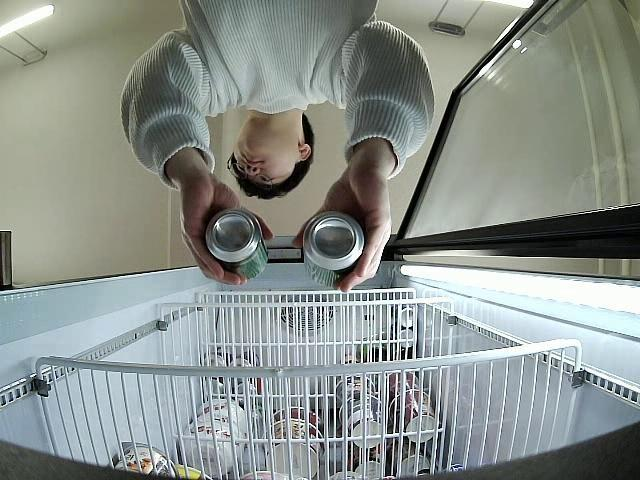12_chilsungCider: (204, 208, 268, 281), (303, 212, 366, 286)
